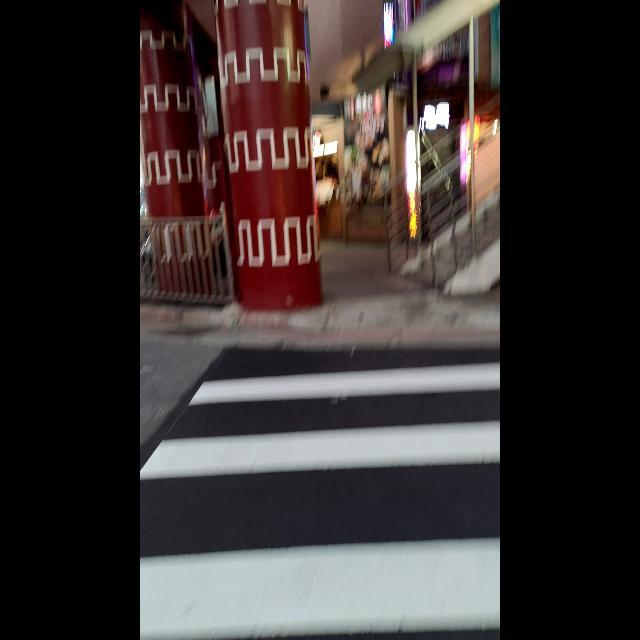sidewalk: (140, 362, 499, 640)
